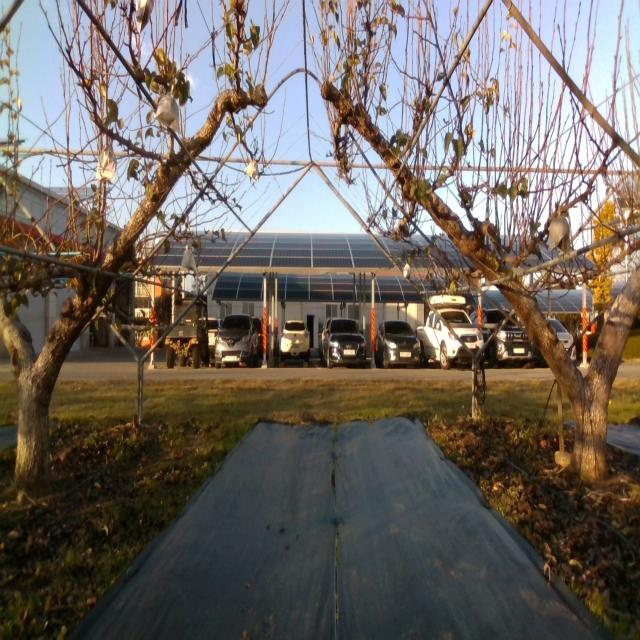pearbags: (154, 93, 182, 134), (549, 218, 571, 254), (95, 146, 116, 182), (136, 0, 154, 32), (182, 250, 197, 274), (244, 161, 259, 180)
